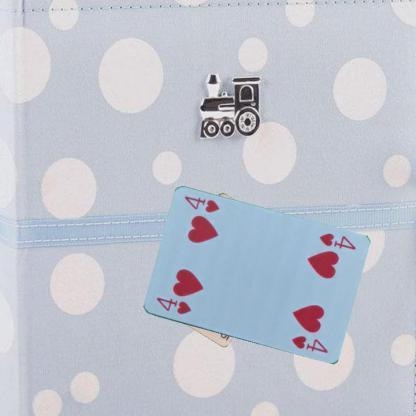4h: (316, 230, 356, 252), (154, 294, 192, 316)
